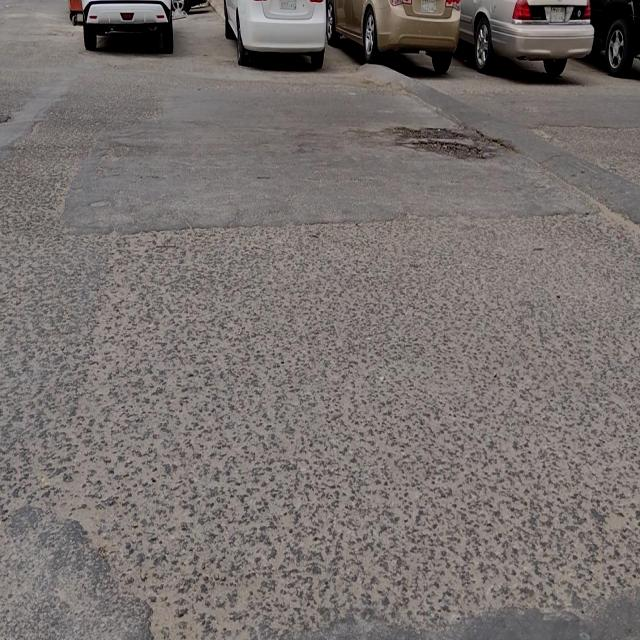Potholes: (391, 123, 489, 162)
